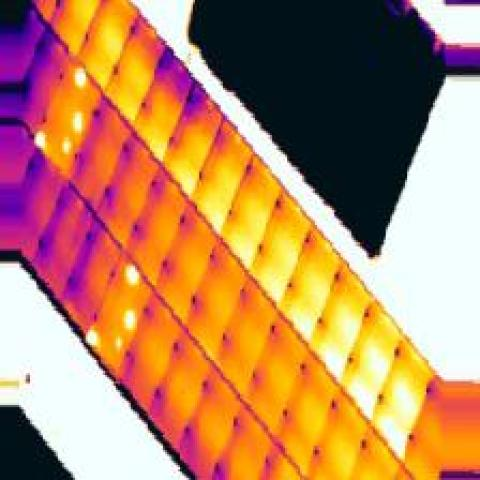fault: (120, 260, 144, 290), (118, 300, 139, 332), (81, 322, 101, 352), (71, 62, 90, 92), (69, 107, 86, 137), (32, 129, 49, 152), (58, 137, 75, 159), (112, 330, 126, 351)
